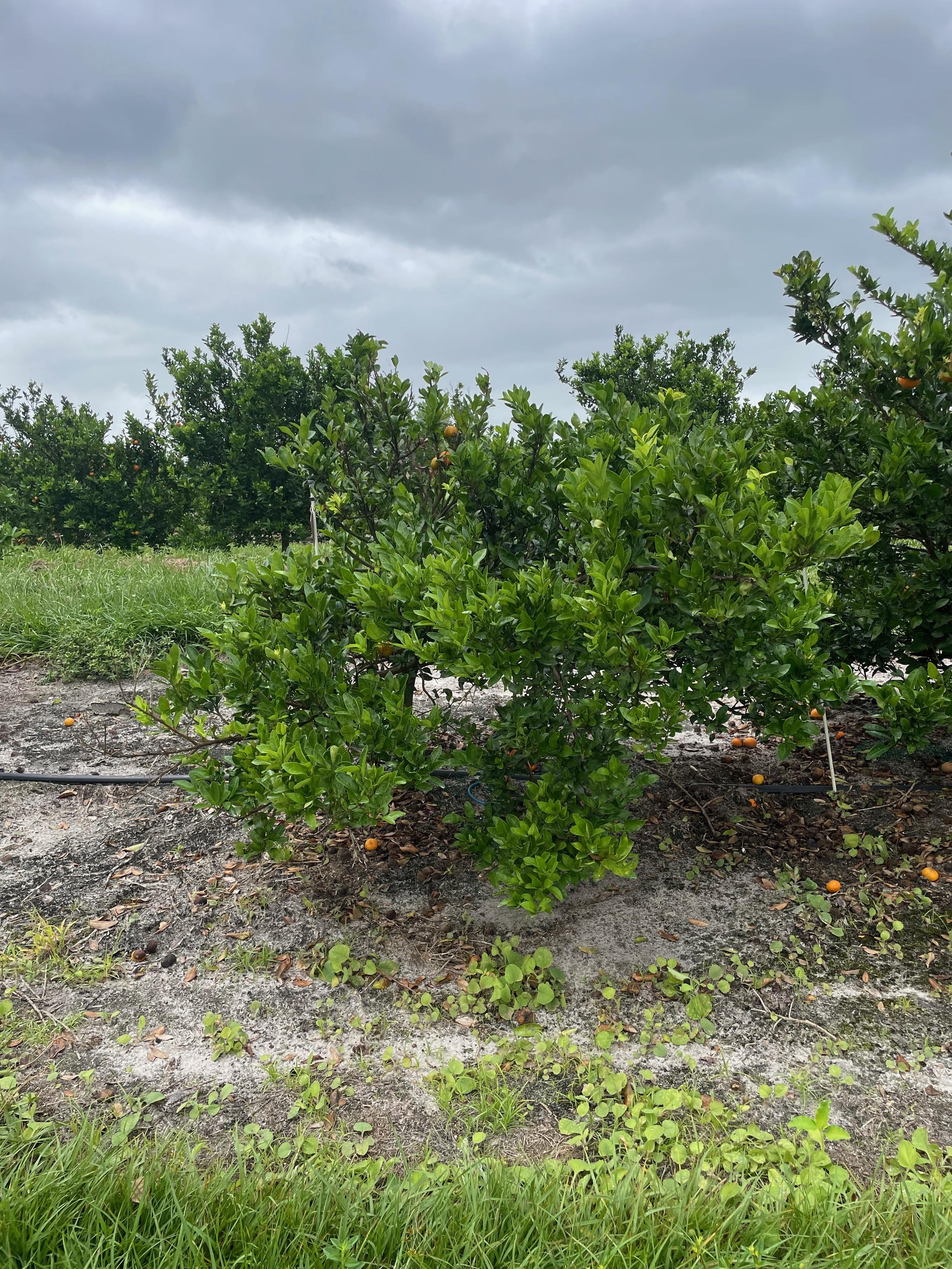fruit_on_ground: (893, 365, 925, 391), (374, 636, 397, 659), (438, 449, 455, 467), (442, 423, 460, 439), (428, 456, 443, 471)
fruit_on_tree: (514, 1005, 538, 1028), (158, 950, 178, 969), (128, 946, 148, 964), (920, 864, 940, 882), (362, 835, 380, 852), (824, 877, 842, 894), (743, 733, 759, 748), (938, 759, 952, 775), (808, 705, 824, 719), (751, 772, 766, 786), (730, 734, 744, 748), (746, 795, 759, 808), (63, 715, 75, 727), (834, 727, 845, 738)
